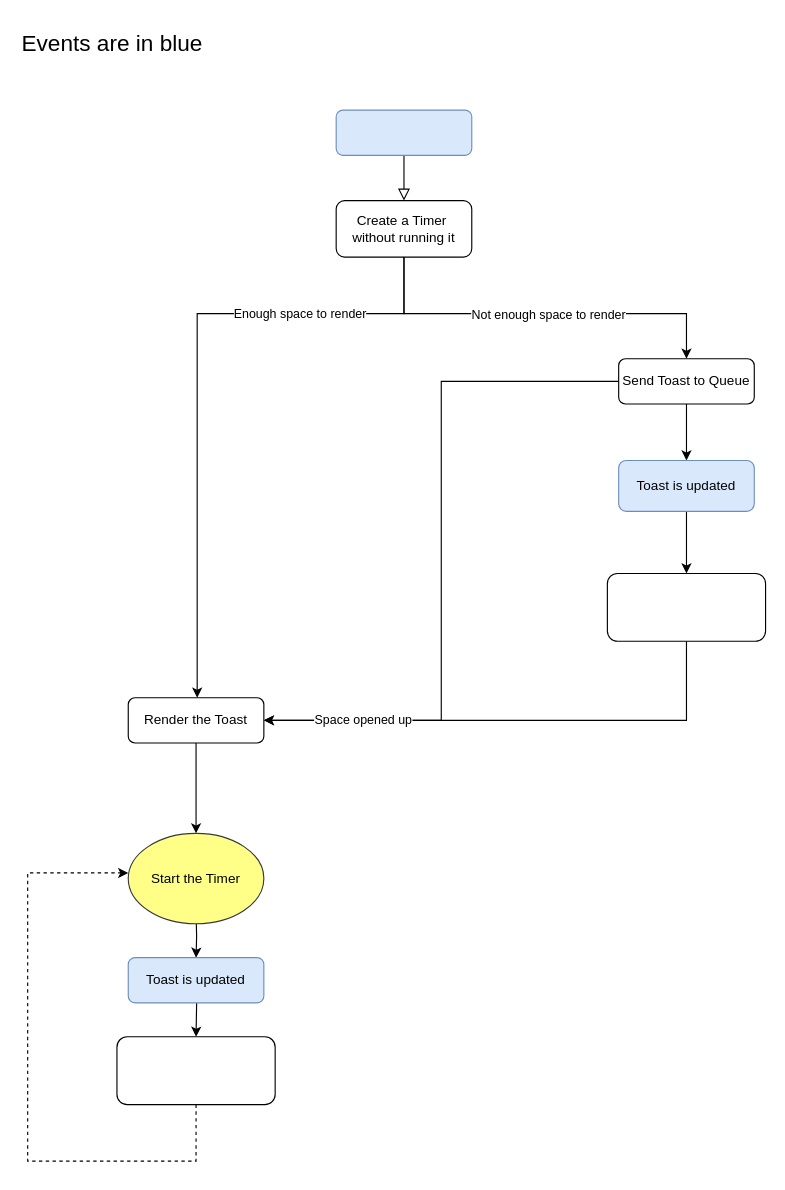
Some shapes in this 785 by 1190 pixel diagram are drawn without their labels. The shapes that lost their labels are listed below. From the top down, each one's box as (x1, y1, x2, y2) in pixels, then its label:
(335, 109, 472, 155): Toast is created.
(606, 572, 766, 641): Update the Timer with new settings if there are any
(116, 1036, 275, 1105): Update the Timer with new settings without running it
